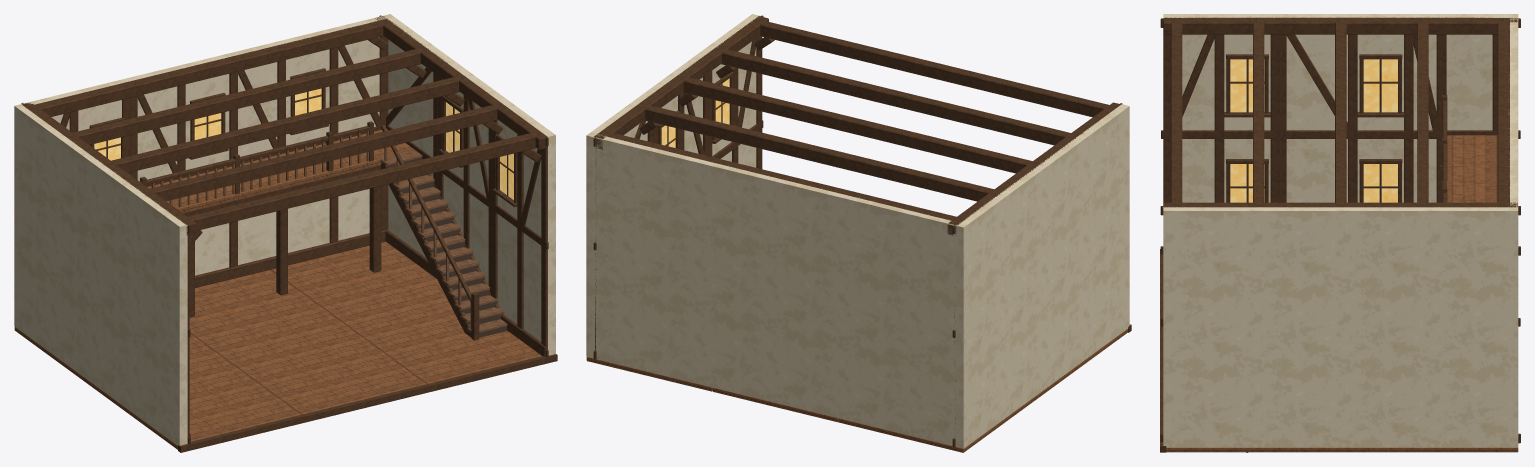
File: guild_hall_interior_shell.glb
3 views of the same model, side by side, from view 1: azimuth 30°, elevation 25°; view 2: azimuth 150°, elevation 25°; view 3: azimuth 270°, elevation 25° (orthographic). The views are drawn at different scales.
Parts seen in each view (by area): view 1: guild_hall_interior_shell_wall_panels, guild_hall_interior_shell_floor_panels, guild_hall_interior_shell_ceiling_beams, guild_hall_interior_shell_gallery, guild_hall_interior_shell_staircase, guild_hall_interior_shell_windows; view 2: guild_hall_interior_shell_wall_panels, guild_hall_interior_shell_ceiling_beams, guild_hall_interior_shell_floor_panels, guild_hall_interior_shell_windows; view 3: guild_hall_interior_shell_wall_panels, guild_hall_interior_shell_ceiling_beams, guild_hall_interior_shell_windows, guild_hall_interior_shell_gallery, guild_hall_interior_shell_floor_panels.
Boxes of the visible parts, x1=… form: guild_hall_interior_shell_wall_panels: x1=14, y1=14, x2=555, y2=445; guild_hall_interior_shell_floor_panels: x1=14, y1=241, x2=557, y2=452; guild_hall_interior_shell_ceiling_beams: x1=22, y1=16, x2=547, y2=246; guild_hall_interior_shell_gallery: x1=139, y1=121, x2=415, y2=317; guild_hall_interior_shell_staircase: x1=380, y1=125, x2=508, y2=340; guild_hall_interior_shell_windows: x1=89, y1=68, x2=517, y2=207; guild_hall_interior_shell_wall_panels: x1=586, y1=14, x2=1129, y2=448; guild_hall_interior_shell_ceiling_beams: x1=593, y1=16, x2=1120, y2=235; guild_hall_interior_shell_floor_panels: x1=586, y1=324, x2=1131, y2=452; guild_hall_interior_shell_windows: x1=658, y1=71, x2=736, y2=148; guild_hall_interior_shell_wall_panels: x1=1160, y1=14, x2=1520, y2=447; guild_hall_interior_shell_ceiling_beams: x1=1163, y1=17, x2=1517, y2=207; guild_hall_interior_shell_windows: x1=1224, y1=54, x2=1404, y2=202; guild_hall_interior_shell_gallery: x1=1442, y1=95, x2=1497, y2=202; guild_hall_interior_shell_floor_panels: x1=1160, y1=249, x2=1518, y2=452.
Size of what is drawn, in the model's own units: 10.52 by 6.12 by 8.12.
Materials: 7 (7 with a texture image).
